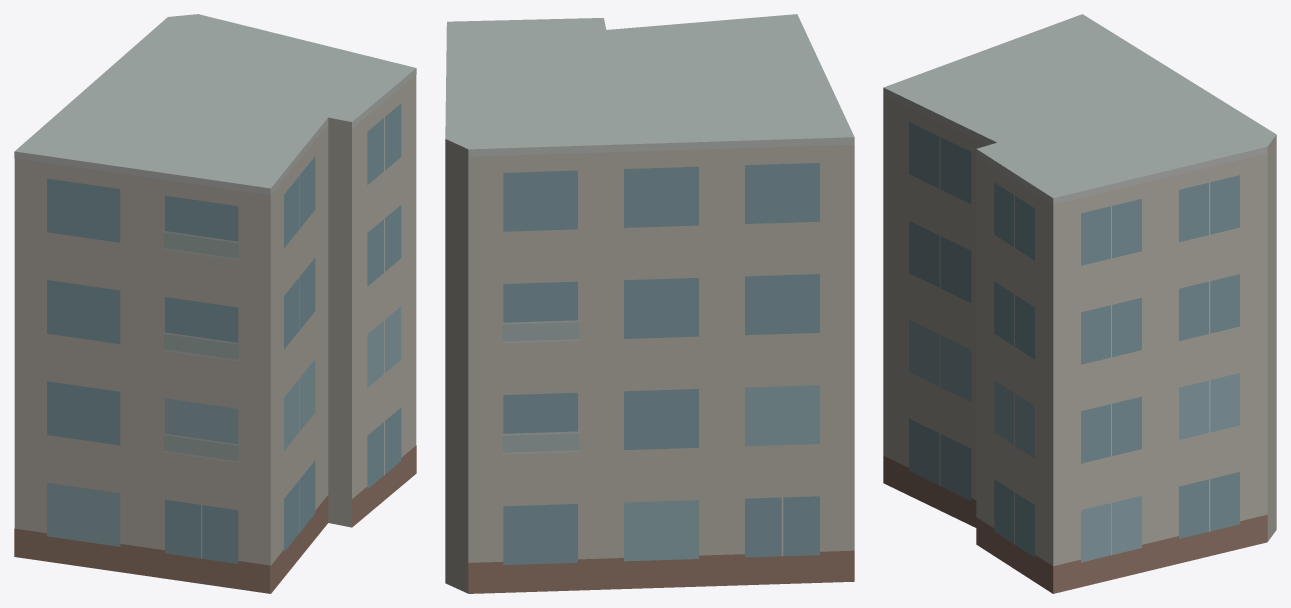
The model's file is survey-upis-32497087.glb.
3 renders of one model, left to right at view 1: azimuth 30°, elevation 25°; view 2: azimuth 150°, elevation 25°; view 3: azimuth 270°, elevation 25°, orthographic. The views are drawn at different scales.
Visible parts, largest first — view 1: survey-upis-32497087.tmp; view 2: survey-upis-32497087.tmp; view 3: survey-upis-32497087.tmp.
Boxes of the visible parts, x1,y1,x2,y2 form: survey-upis-32497087.tmp: (14, 14, 416, 593); survey-upis-32497087.tmp: (445, 14, 854, 593); survey-upis-32497087.tmp: (883, 14, 1276, 593).
Size of the model in its own units: 14.59 by 14.6 by 13.16.
